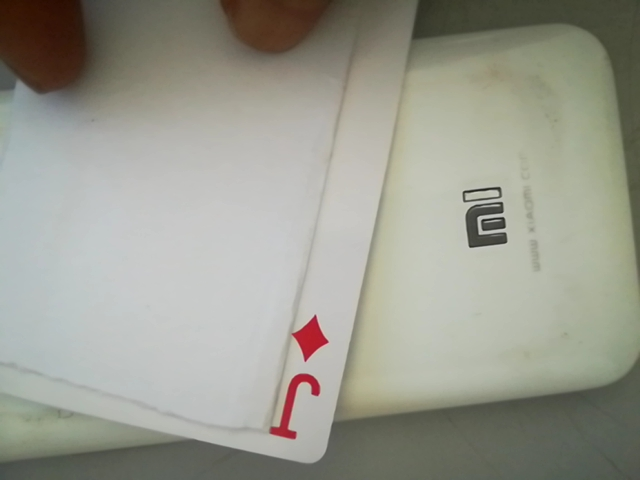fk j: (265, 307, 340, 450)
